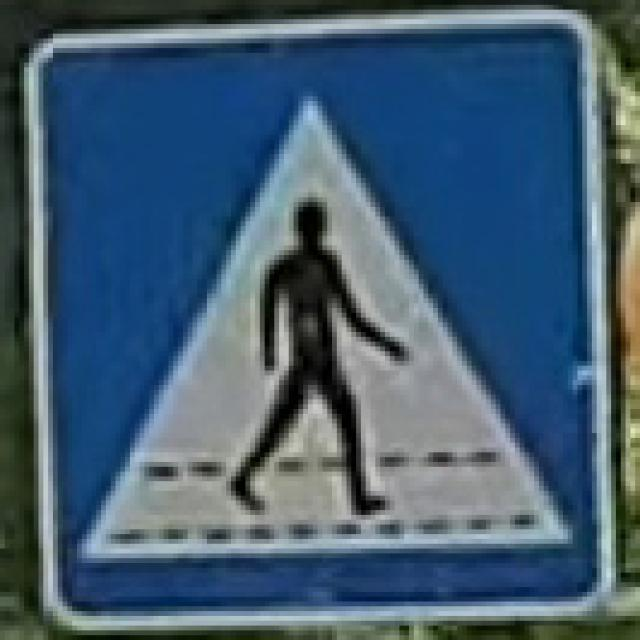zebracrossing_sign: (19, 5, 621, 630)
